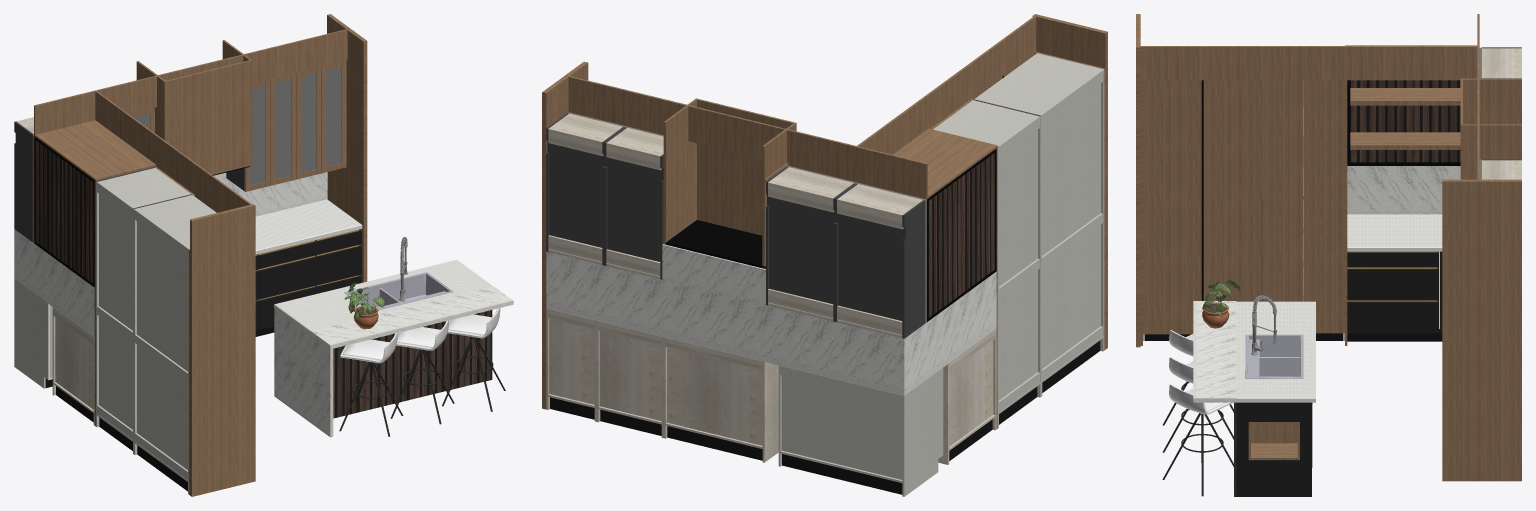
The model's file is showroom-kitchen.glb.
3 views of the same model, side by side, from view 1: azimuth 30°, elevation 25°; view 2: azimuth 150°, elevation 25°; view 3: azimuth 270°, elevation 25° (orthographic). The views are drawn at different scales.
Parts seen in each view (by area): view 1: showroom-kitchen.001, mv_showroom-kitchen_026, mv_showroom-kitchen_027, mv_showroom-kitchen_028, mv_showroom-kitchen_025, mv_showroom-kitchen_016, mv_showroom-kitchen_013, mv_showroom-kitchen_015, mv_showroom-kitchen_017, mv_showroom-kitchen_012; view 2: showroom-kitchen.001; view 3: showroom-kitchen.001, mv_showroom-kitchen_005, mv_showroom-kitchen_006, mv_showroom-kitchen_002, mv_showroom-kitchen_003, mv_showroom-kitchen_004, mv_showroom-kitchen_001, mv_showroom-kitchen_020, mv_showroom-kitchen_019, mv_showroom-kitchen_018.
Boxes of the visible parts, box(x1,y1,x2,y2) form: showroom-kitchen.001: box(14, 14, 513, 496); mv_showroom-kitchen_026: box(270, 73, 295, 185); mv_showroom-kitchen_027: box(296, 67, 321, 179); mv_showroom-kitchen_028: box(321, 61, 346, 173); mv_showroom-kitchen_025: box(244, 79, 270, 191); mv_showroom-kitchen_016: box(258, 256, 317, 299); mv_showroom-kitchen_013: box(317, 245, 361, 284); mv_showroom-kitchen_015: box(258, 241, 317, 268); mv_showroom-kitchen_017: box(258, 286, 317, 329); mv_showroom-kitchen_012: box(317, 230, 361, 254); showroom-kitchen.001: box(542, 14, 1107, 496); showroom-kitchen.001: box(1136, 14, 1521, 496); mv_showroom-kitchen_005: box(1143, 80, 1201, 334); mv_showroom-kitchen_006: box(1201, 80, 1262, 301); mv_showroom-kitchen_002: box(1304, 198, 1344, 333); mv_showroom-kitchen_003: box(1262, 80, 1303, 198); mv_showroom-kitchen_004: box(1304, 80, 1344, 198); mv_showroom-kitchen_001: box(1262, 198, 1303, 301); mv_showroom-kitchen_020: box(1347, 301, 1438, 333); mv_showroom-kitchen_019: box(1347, 269, 1438, 300); mv_showroom-kitchen_018: box(1347, 252, 1438, 267).
Bounding box in the file's own units: 3.62 × 2.74 × 3.2.
Materials: 25 (19 with a texture image).
